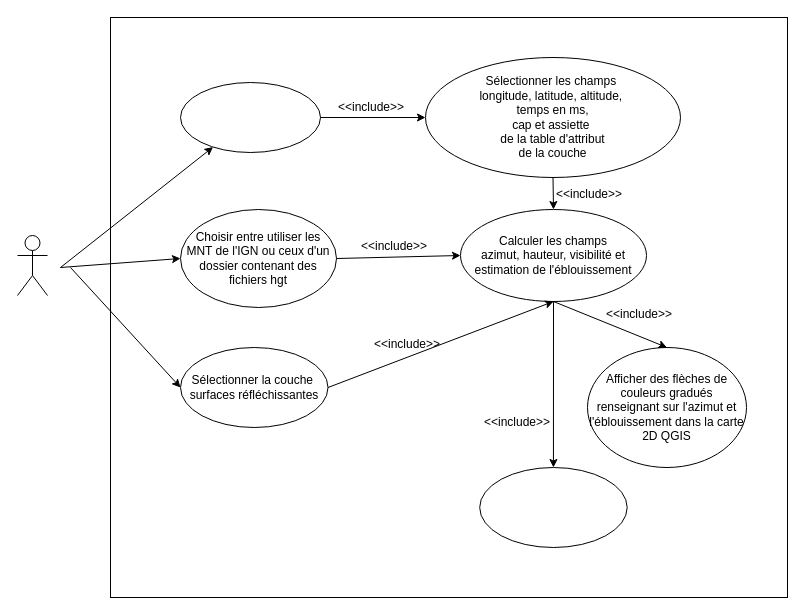
Some shapes in this 805 by 615 pixel diagram are drawn without their labels. Each missing label, with the box of its shape:
Actor: (16, 234, 48, 296)
Exporter les données résultats en fichier(s) json et/ou csv: (479, 466, 627, 548)
Sélectionner la couche trajectoire: (180, 82, 320, 152)
